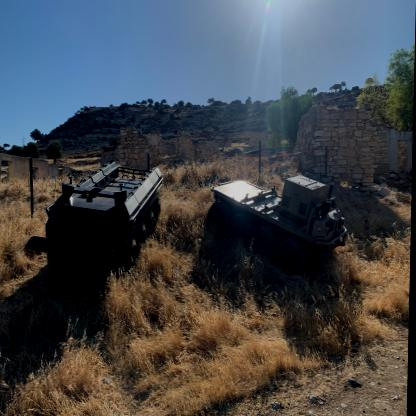UGV: (25, 160, 165, 272), (210, 174, 347, 277)
